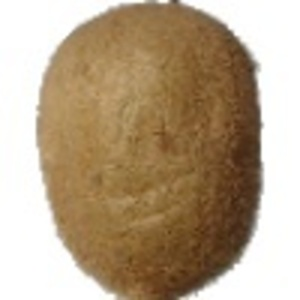kiwi: (35, 1, 264, 300)
